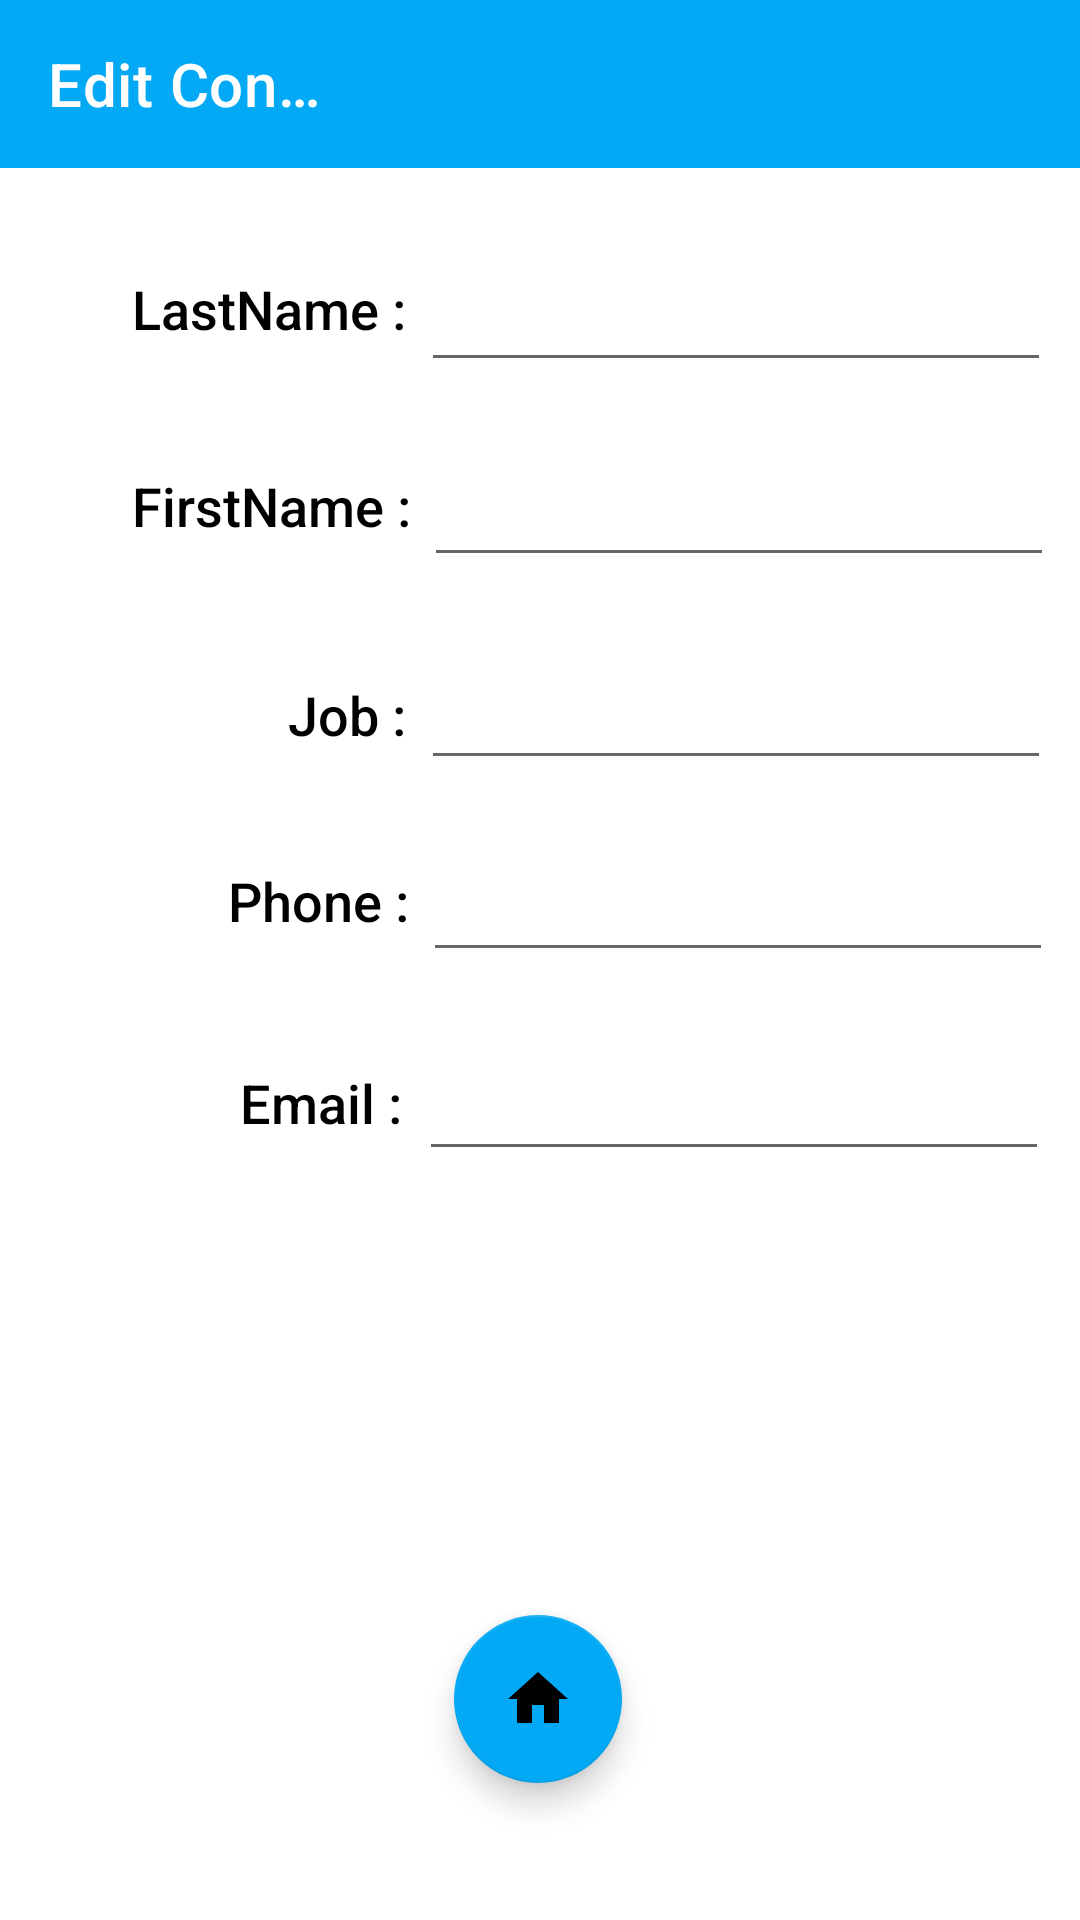

Named icons in this screenshot (1080 × 1920) and their centers, (x,y):
home: (538,1699)
